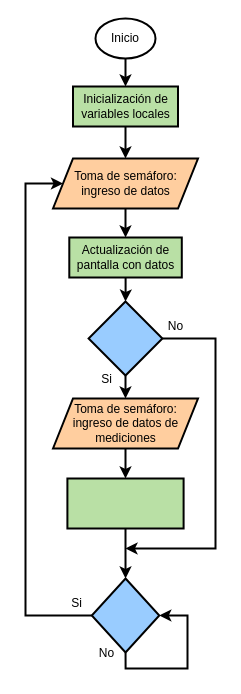
Image size: 241x694. Some labels were removed from this diagram. The shapes that lost their labels are listed below. From the top down, each one's centre as x and y in pixels, then its label:
point (125, 338): Transcurrido 0,5 seg.?
point (125, 503): Actualización de pantalla con datos de mediciones
point (125, 615): Transcurrido 0,1 seg.?
